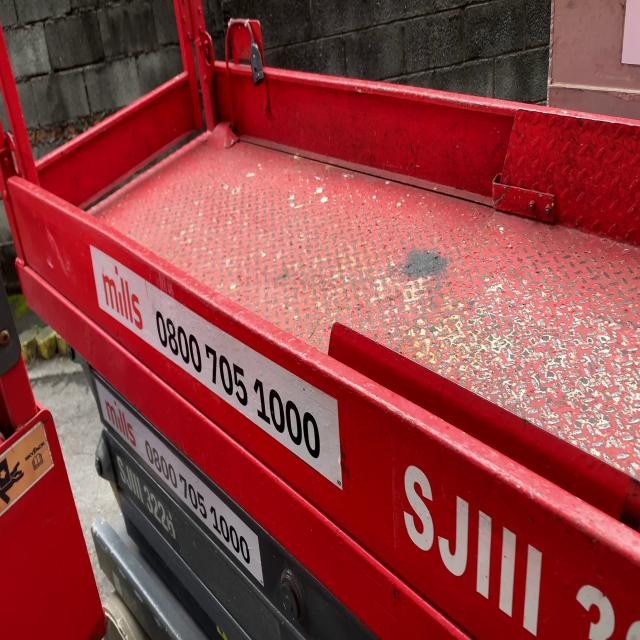Adesivo Longo: (88, 241, 344, 499), (94, 377, 265, 590)
